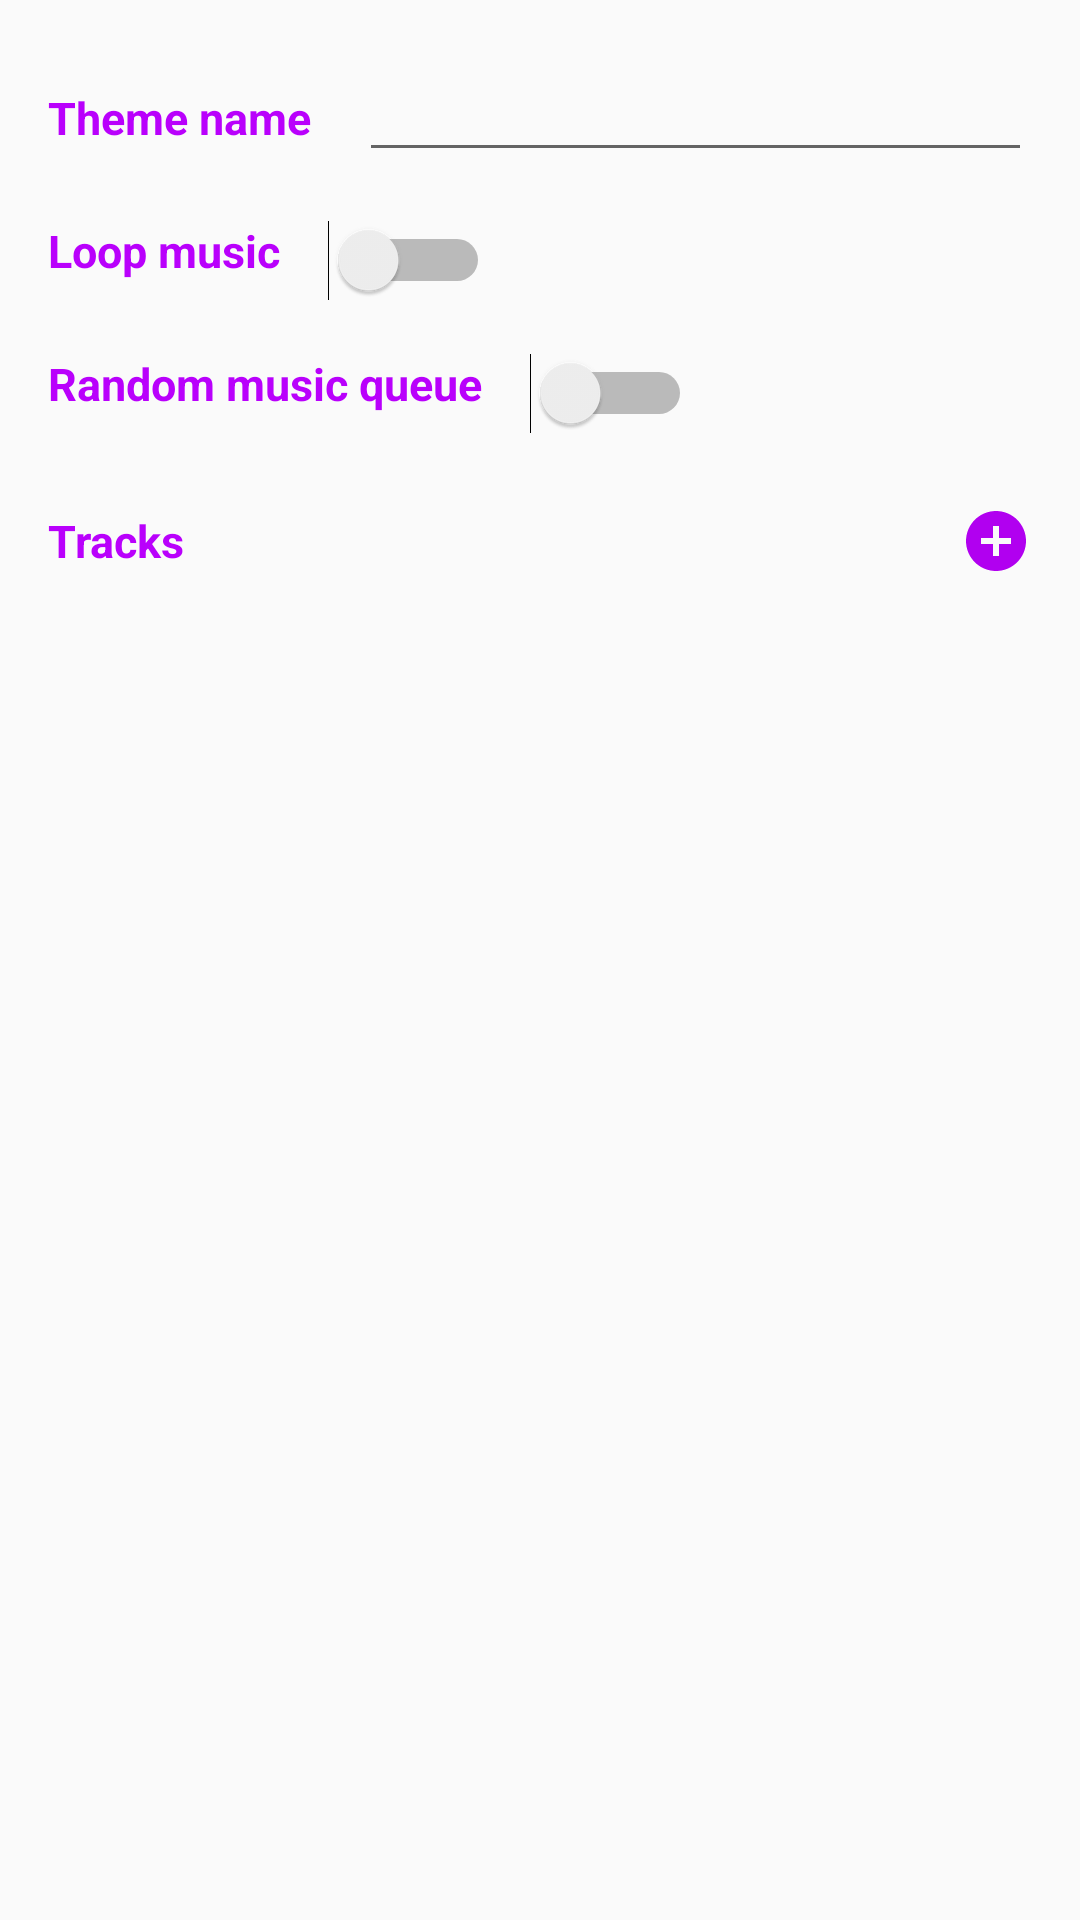

Icon click points for this 1080w x 1920h phone screenshot, format [x,y]:
Add track: [996,541]
